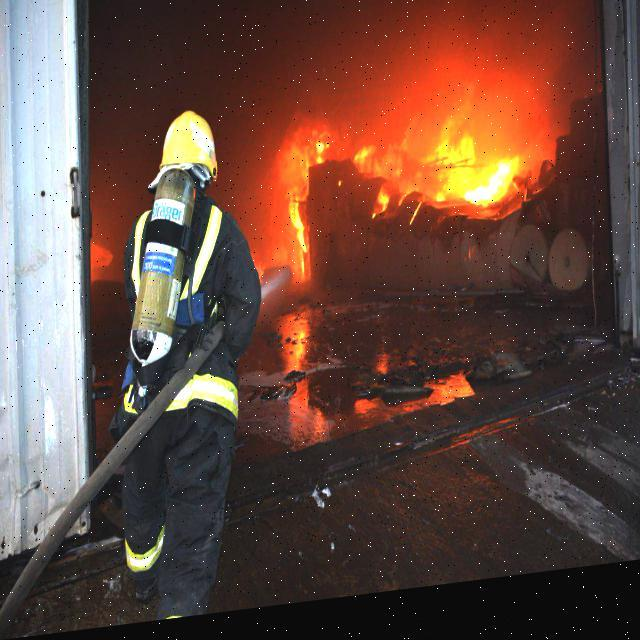Fire: (287, 120, 518, 237)
